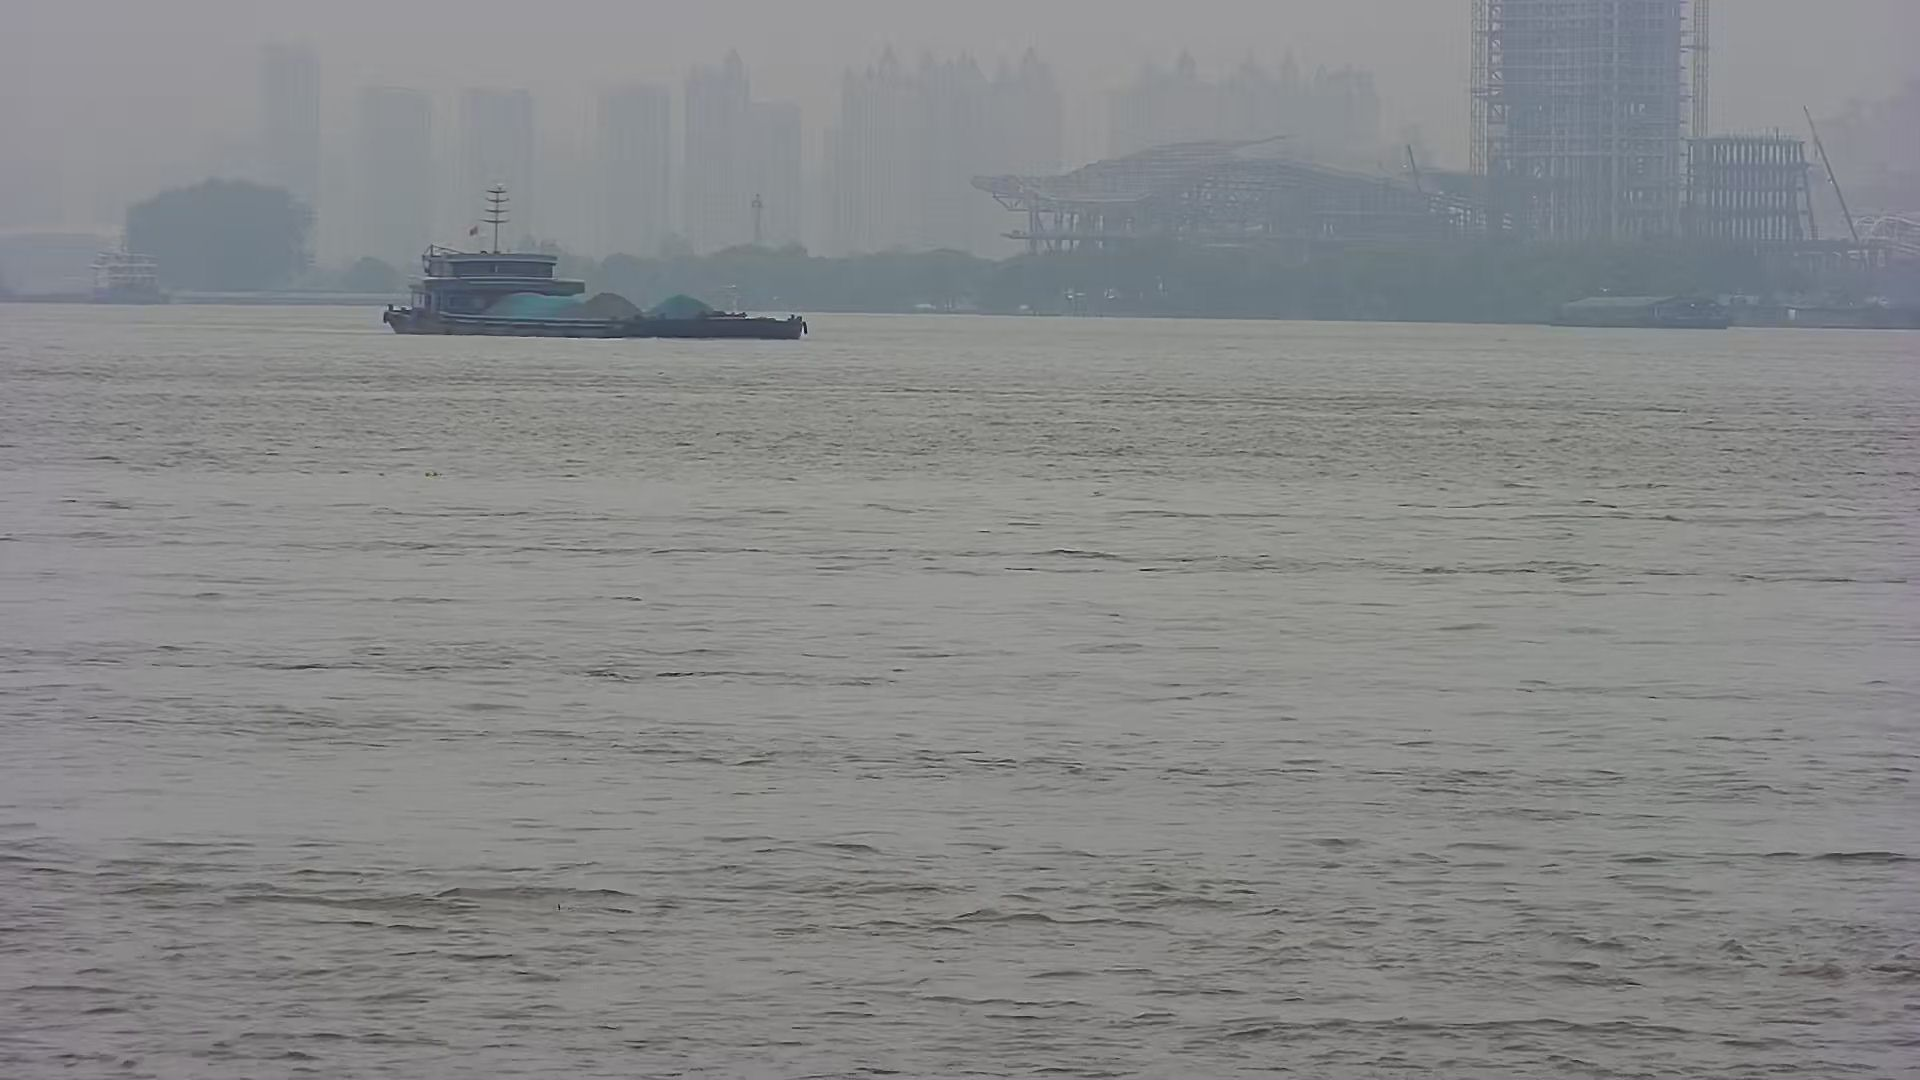boat: (360, 214, 823, 343), (1538, 284, 1747, 334), (80, 225, 181, 311)
